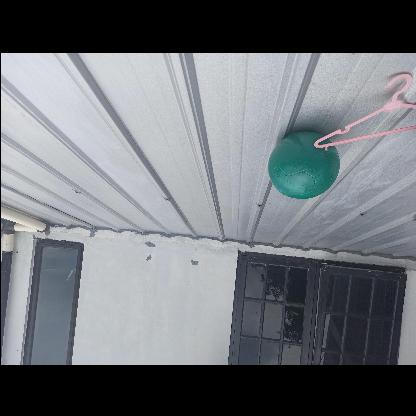green_ball: (266, 129, 336, 200)
